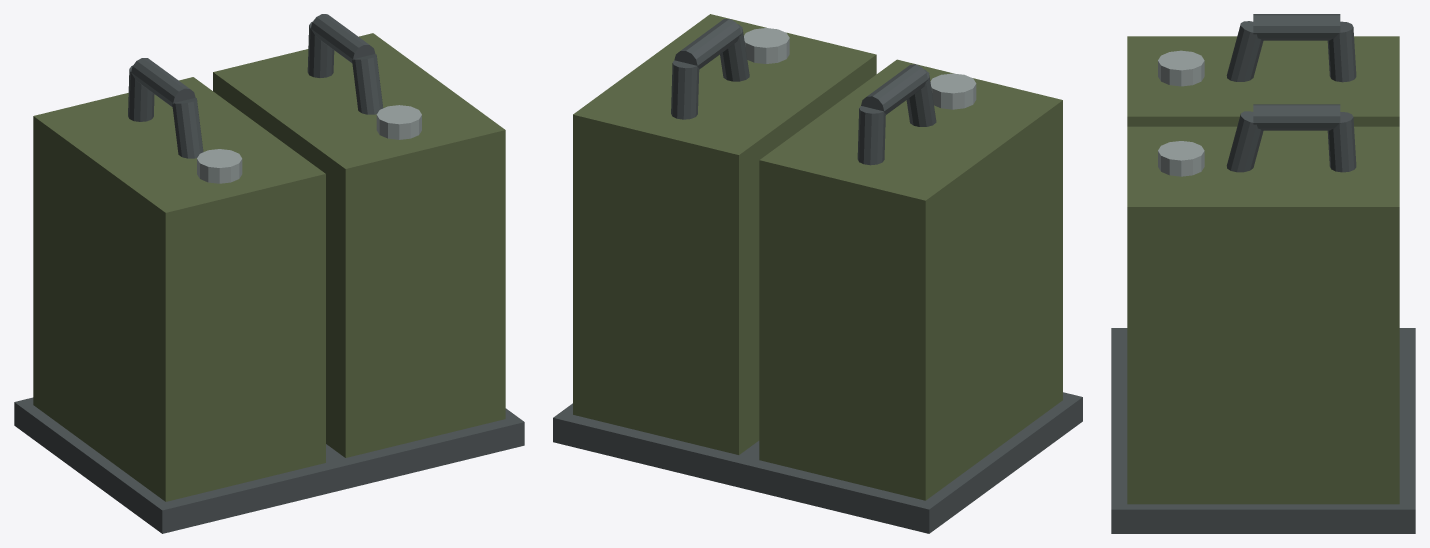
Rendered from KIT_ROOF_JerryCans.glb.
The picture shows the model from 3 angles, left to right: view 1: azimuth 30°, elevation 25°; view 2: azimuth 150°, elevation 25°; view 3: azimuth 270°, elevation 25°; orthographic projection. The views are drawn at different scales.
Visible parts, largest first — view 1: Tanks, Carrier, Handles, Caps; view 2: Tanks, Carrier, Handles, Caps; view 3: Tanks, Carrier, Handles, Caps.
Boxes of the visible parts, x1,y1,x2,y2 form: Tanks: (33,33,505,501); Carrier: (14,397,524,533); Handles: (128,14,383,158); Caps: (197,105,421,183); Tanks: (573,14,1062,500); Carrier: (553,392,1082,533); Handles: (671,19,936,165); Caps: (744,28,976,109); Tanks: (1127,36,1399,504); Carrier: (1111,328,1415,533); Handles: (1226,14,1356,172); Caps: (1158,50,1204,176).
Size of the model in its own units: 0.387 by 0.38 by 0.274.
